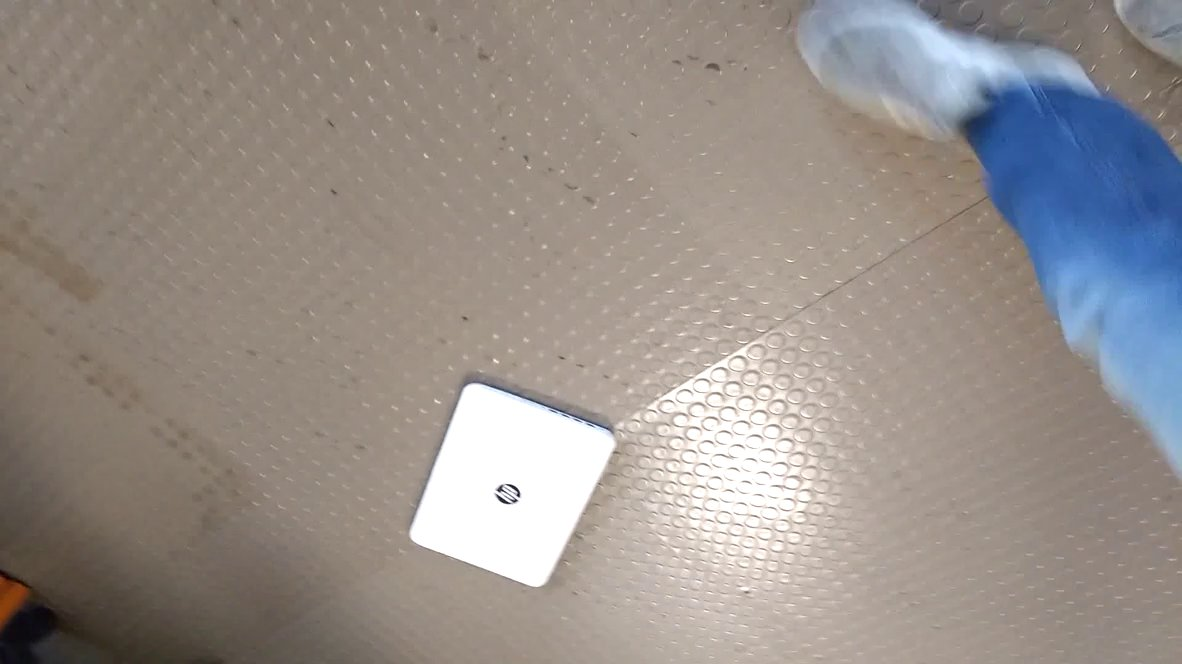laptop: (404, 374, 623, 596)
